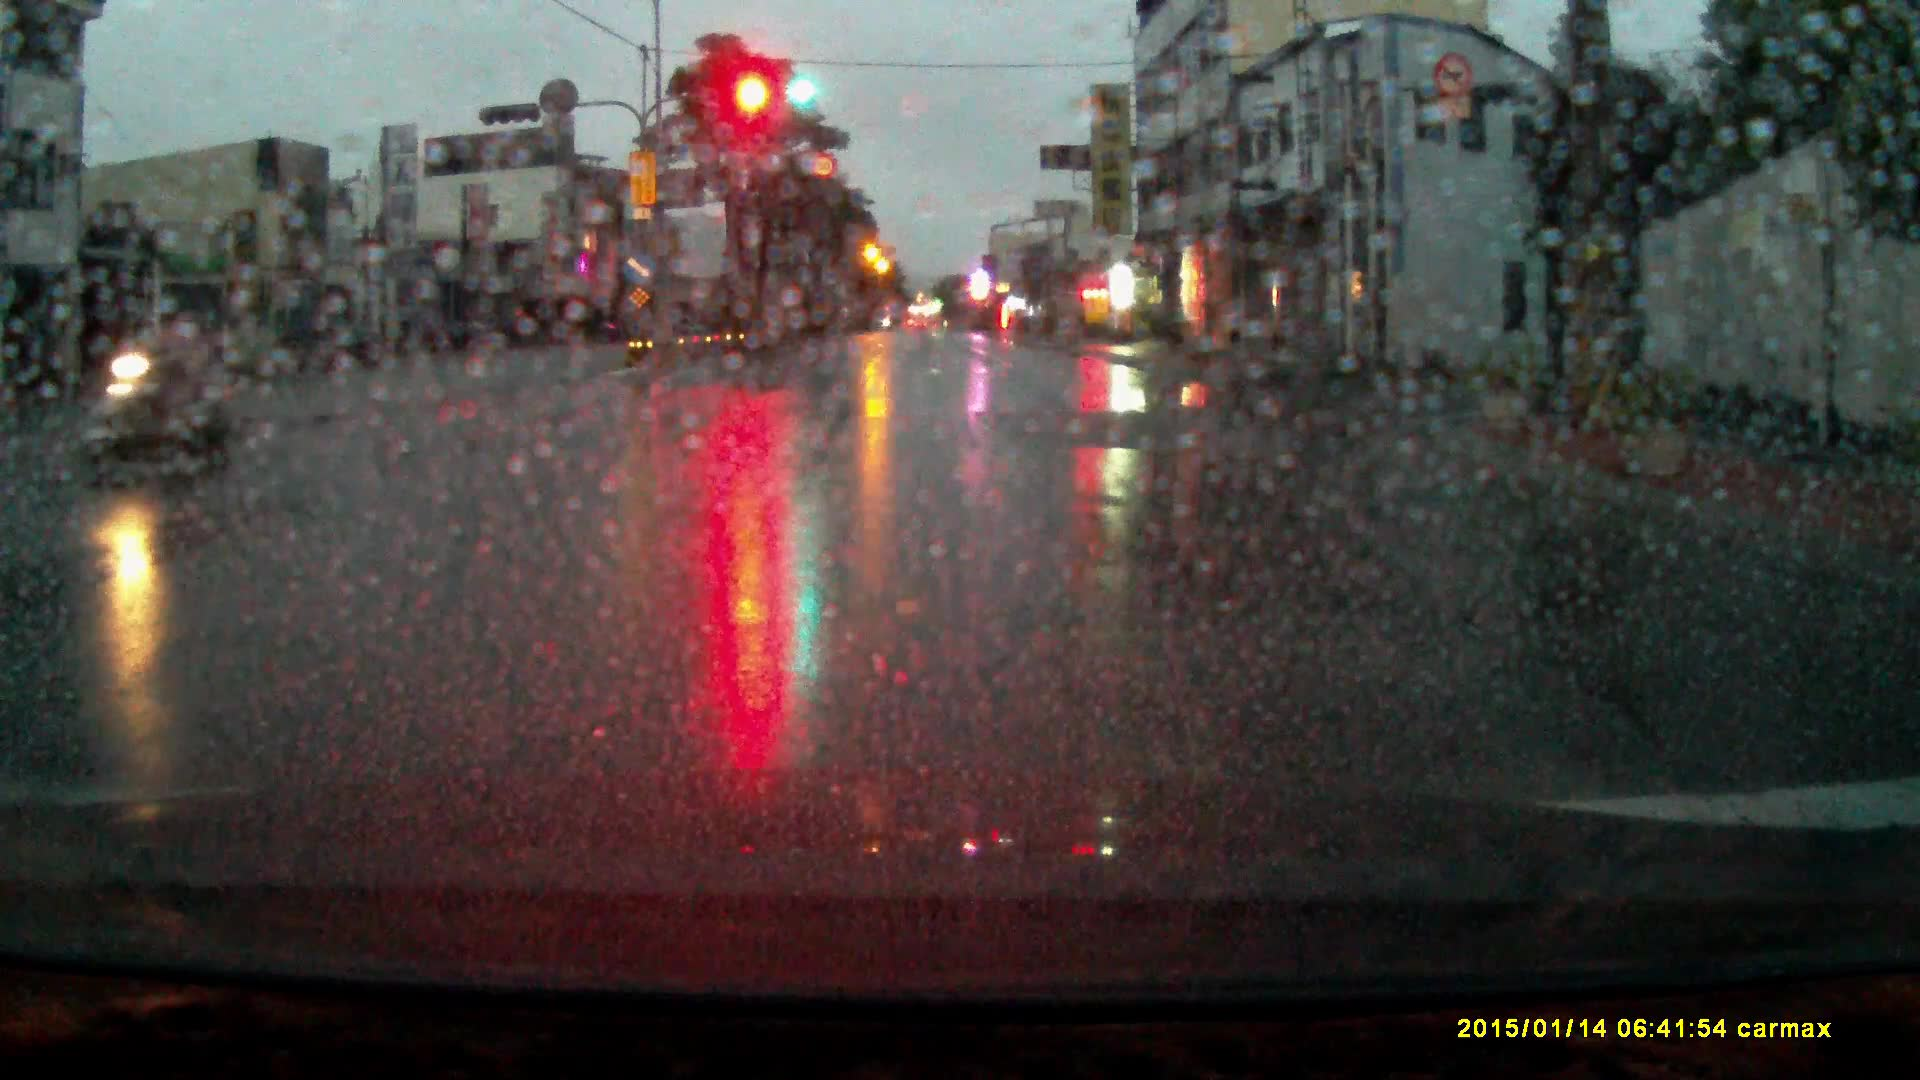rider: (69, 284, 241, 485)
